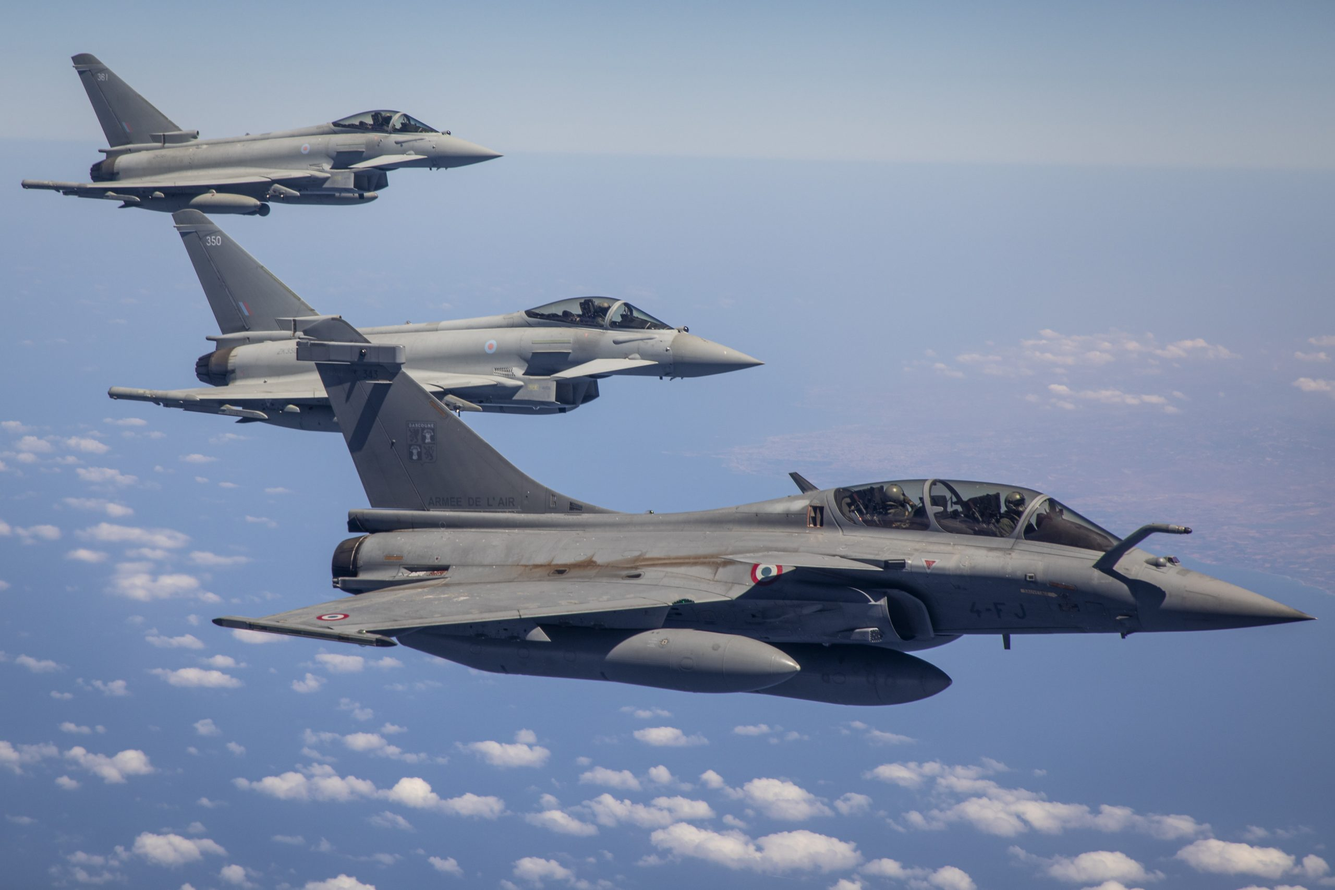Rafale: (210, 315, 1317, 707)
